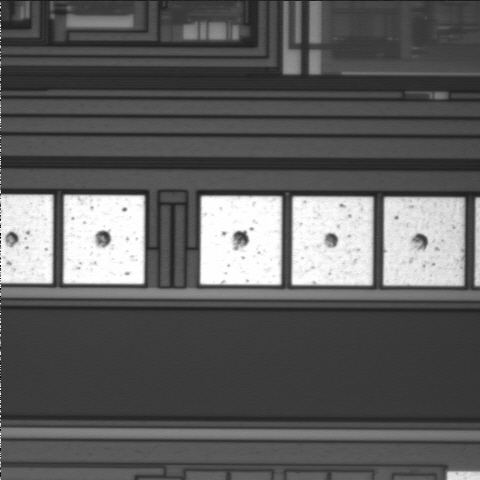pad: (63, 195, 145, 284), (200, 196, 282, 285), (292, 196, 373, 285), (383, 197, 464, 286)
